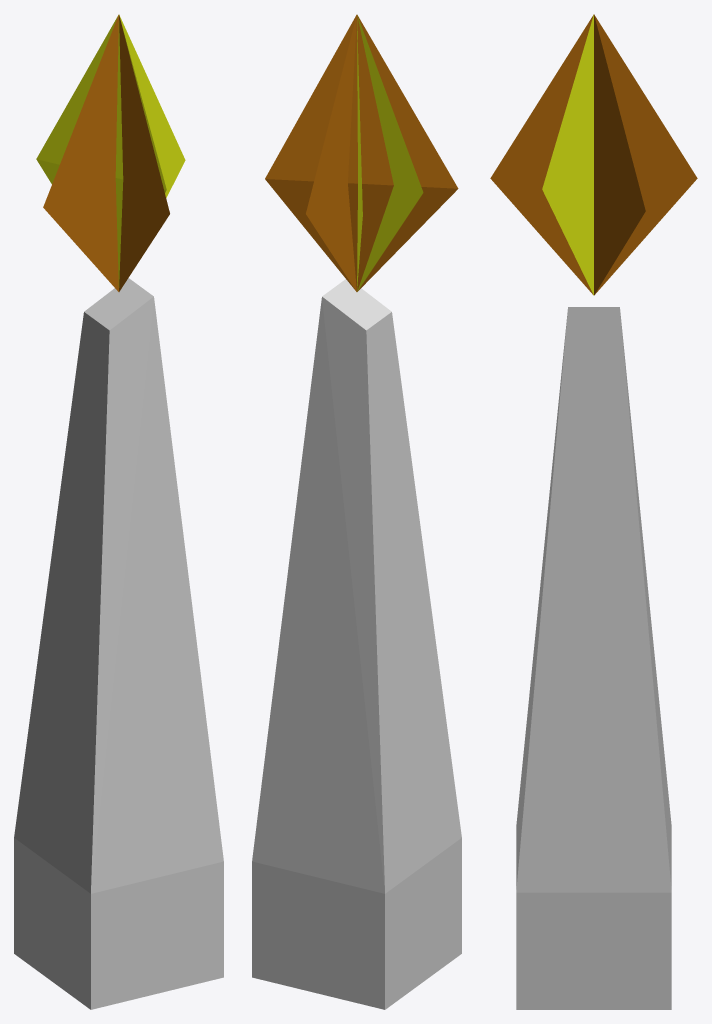
Rendered from inv_lit_candle.obj.
3 views of the same model, side by side, from view 1: azimuth 30°, elevation 25°; view 2: azimuth 150°, elevation 25°; view 3: azimuth 270°, elevation 25° (orthographic).
Size of the model in its own units: 0.0547 by 0.3203 by 0.0625.
